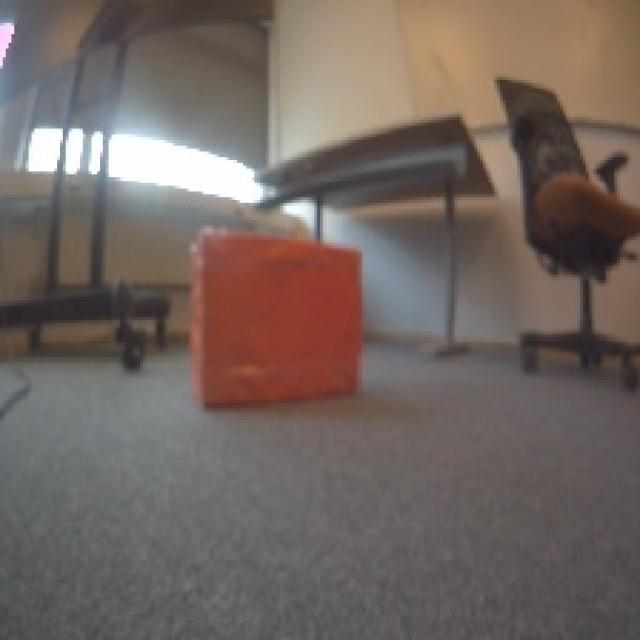target: (183, 223, 366, 408)
